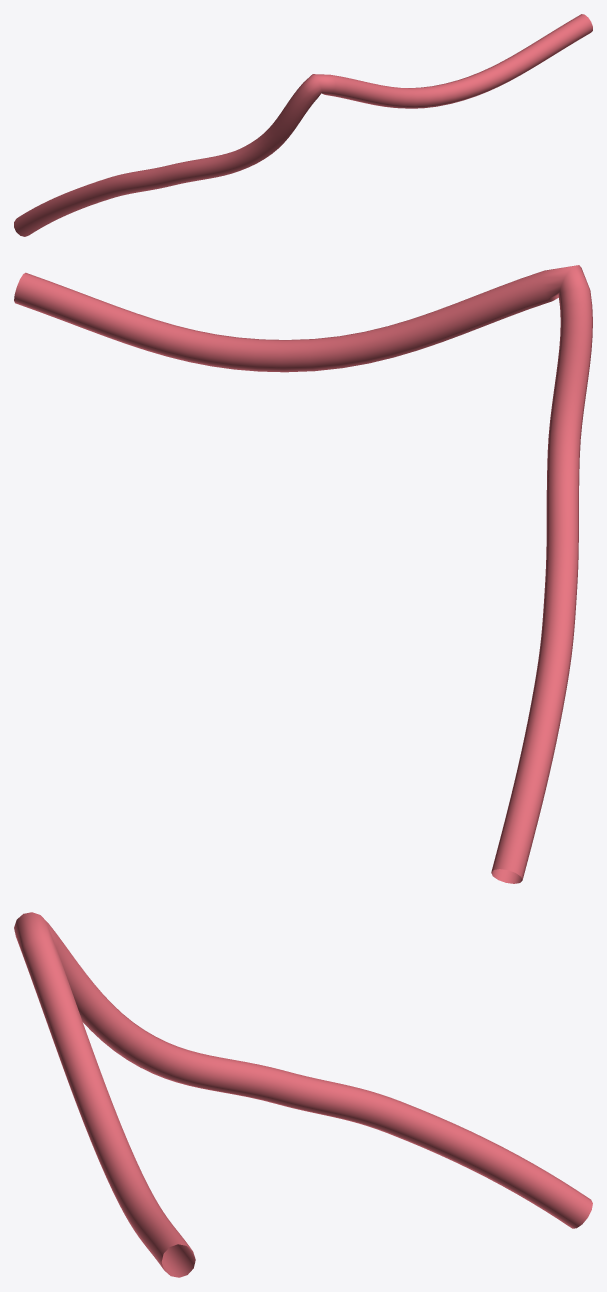
3 renders of one model, top to bottom at view 1: azimuth 30°, elevation 25°; view 2: azimuth 150°, elevation 25°; view 3: azimuth 270°, elevation 25°, orthographic. The views are drawn at different scales.
Visible parts, largest first — view 1: ZA_31571b32a129a118; view 2: ZA_31571b32a129a118; view 3: ZA_31571b32a129a118.
Boxes of the visible parts, <box> form: ZA_31571b32a129a118: <box>14,14,592,236</box>; ZA_31571b32a129a118: <box>14,265,592,883</box>; ZA_31571b32a129a118: <box>14,912,592,1277</box>.
Bounding box in the file's own units: 0.0444 × 0.0237 × 0.0301.
